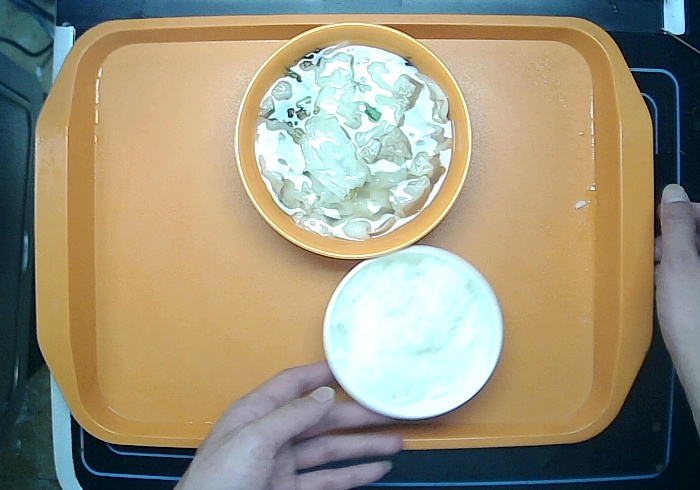NLDX-Fan_Wan: (318, 239, 506, 424)
NLDX-Hun_Tun_Wan: (232, 19, 474, 264)
